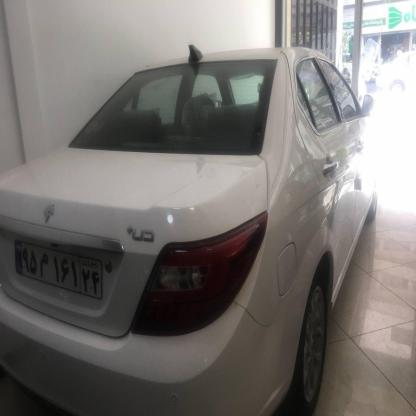Car: (0, 52, 392, 406)
